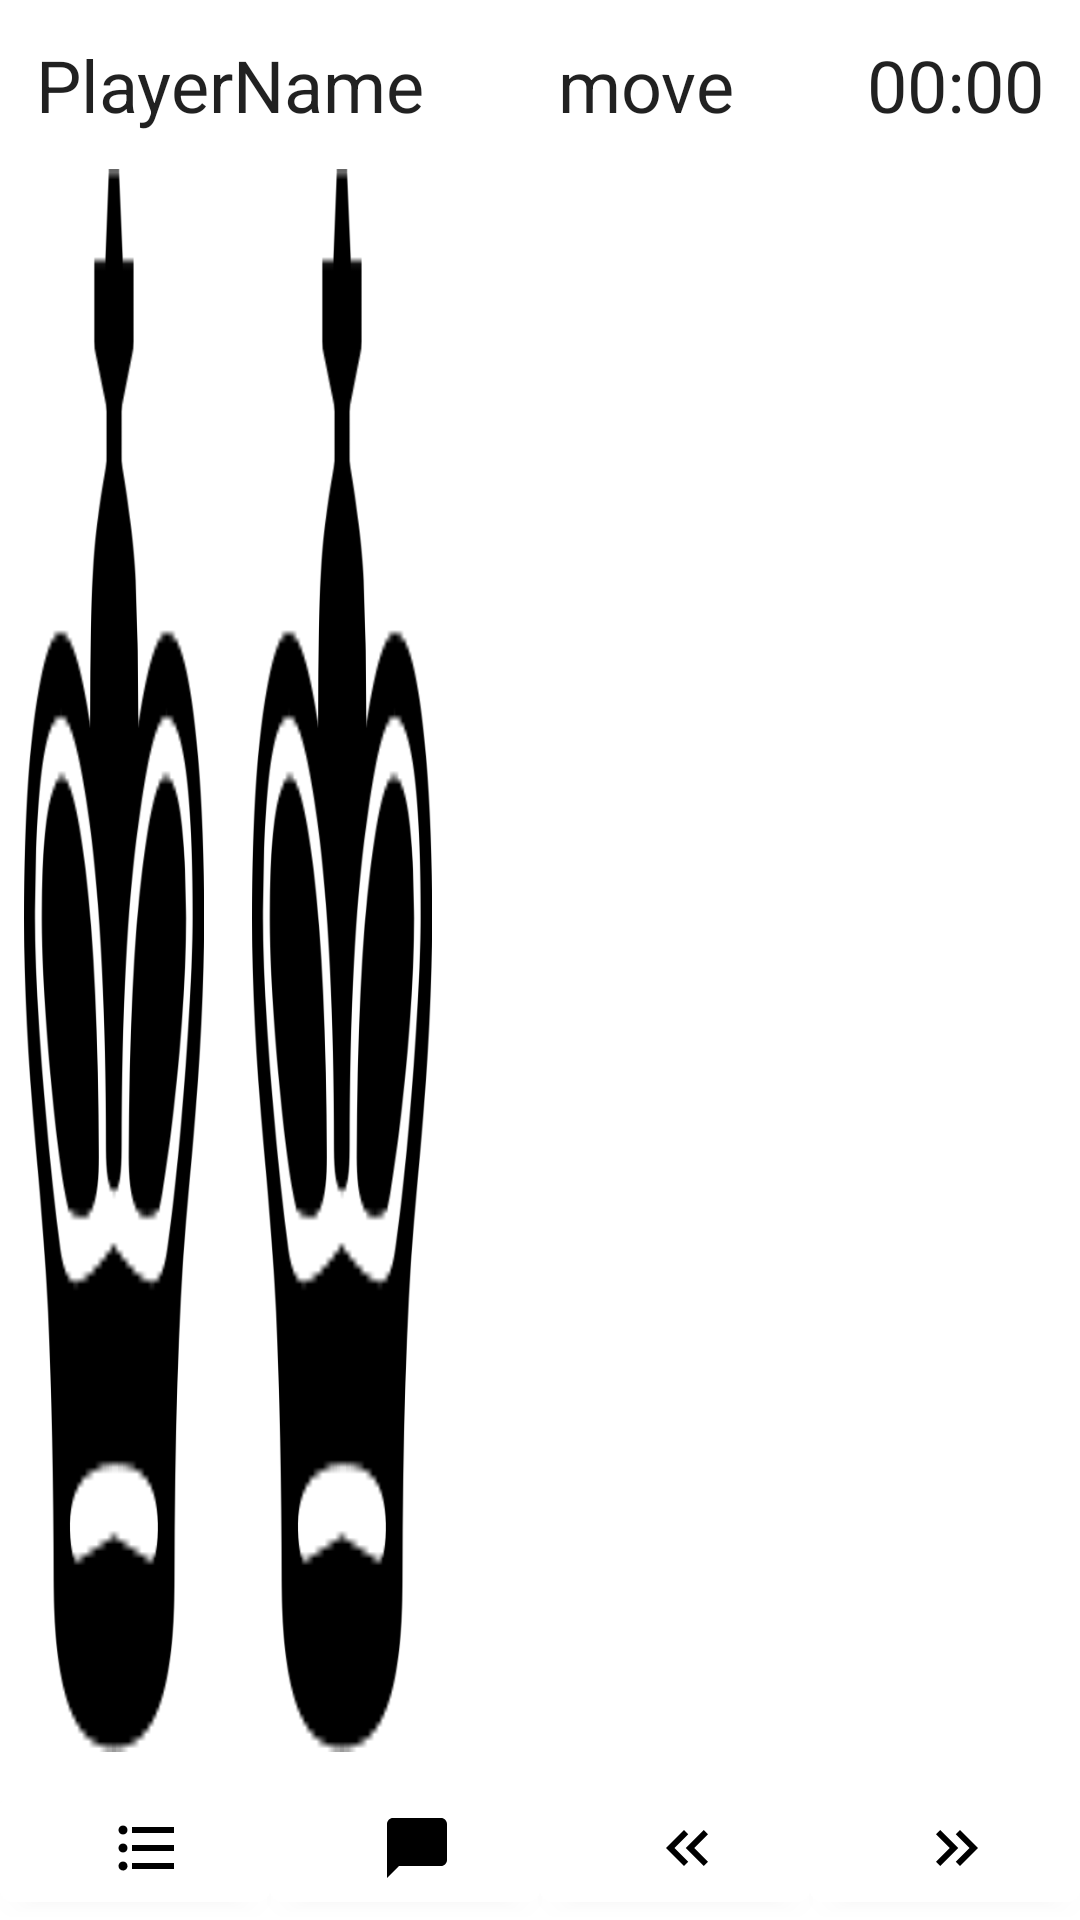

Point at icon controls on the screen. Image size 1080 × 1920, points as (x=x, y=y).
chat bubble: (x=417, y=1848)
format list bulleted: (x=146, y=1848)
keyboard double arrow left: (x=687, y=1848)
keyboard double arrow right: (x=957, y=1848)
